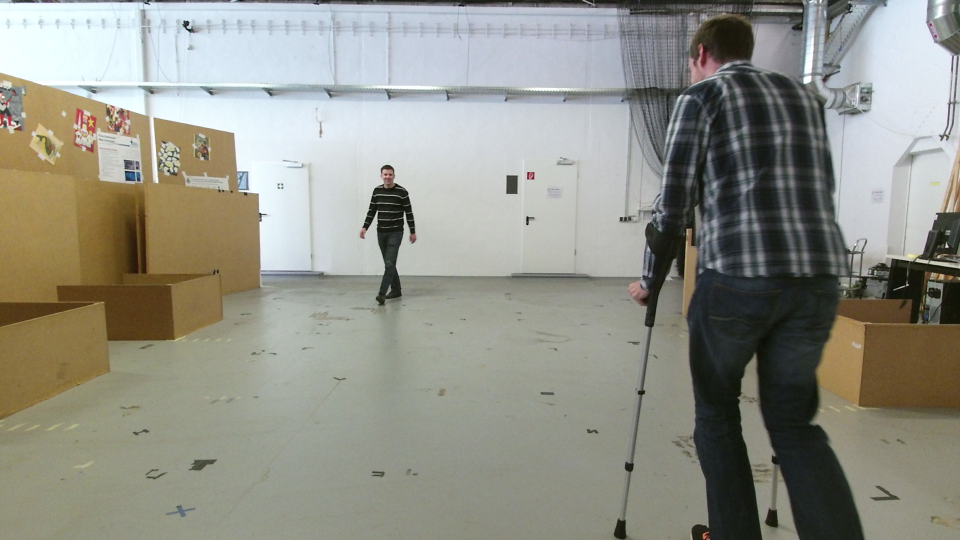crutches: (601, 10, 865, 540)
